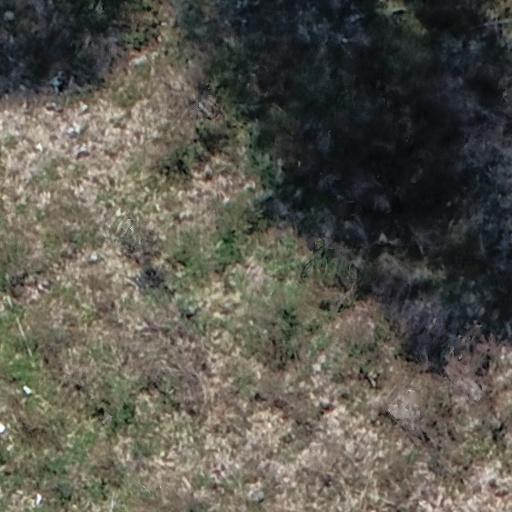stone: (20, 380, 33, 398), (87, 249, 100, 263), (66, 122, 79, 134), (34, 492, 44, 504), (34, 141, 44, 151), (80, 101, 88, 113)
